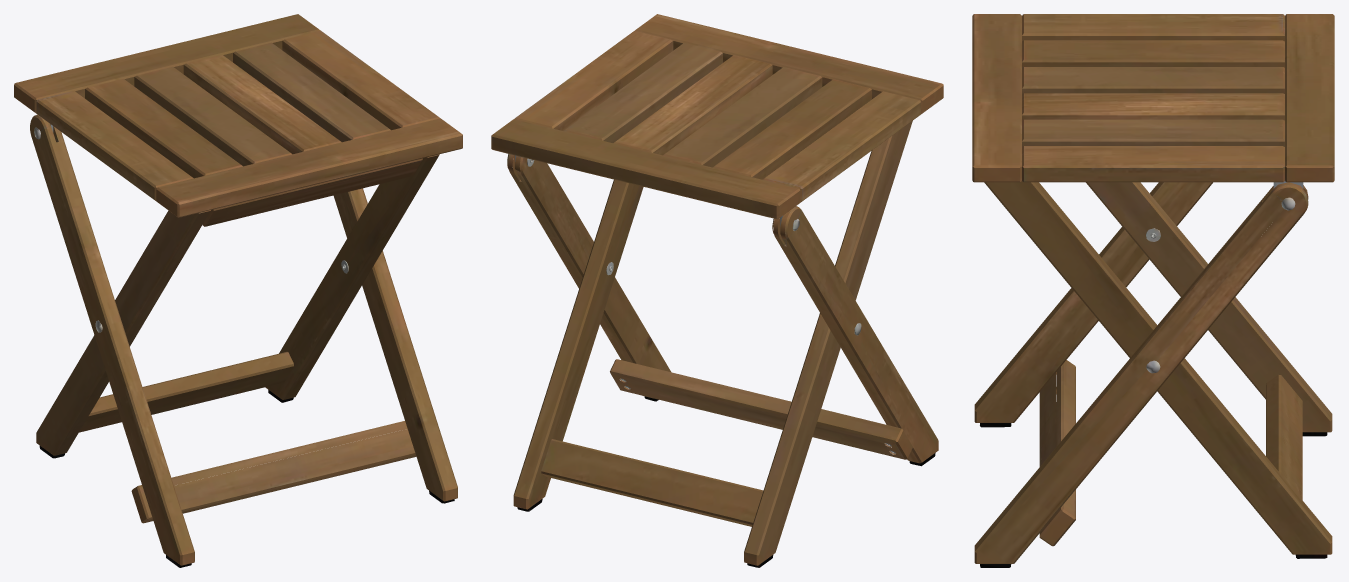
The picture shows the model from 3 angles, left to right: view 1: azimuth 30°, elevation 25°; view 2: azimuth 150°, elevation 25°; view 3: azimuth 270°, elevation 25°; orthographic projection. The views are drawn at different scales.
Parts seen in each view (by area): view 1: nammaro-stool; view 2: nammaro-stool; view 3: nammaro-stool.
Part boxes in pixels (box(x1,y1,x2,y2)): nammaro-stool: box(14, 14, 462, 567); nammaro-stool: box(491, 14, 943, 567); nammaro-stool: box(972, 14, 1334, 567).
Bounding box in the file's own units: 0.3649 × 0.4505 × 0.3649.
1 material, 1 textured.
